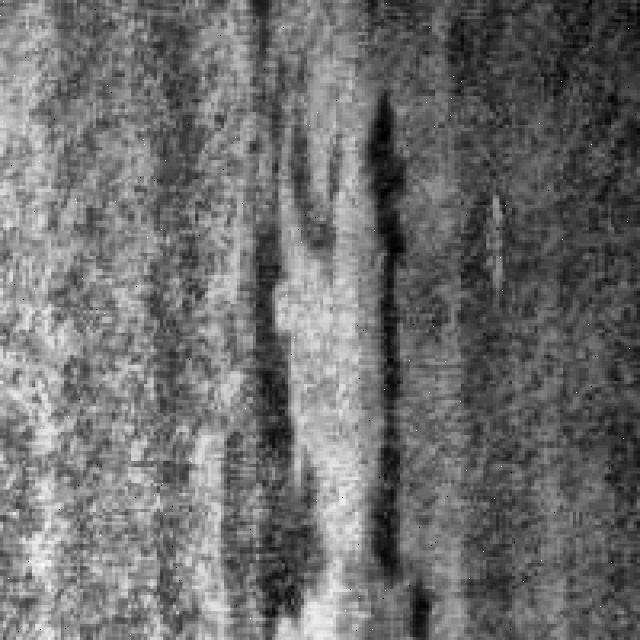Patches: (234, 77, 356, 630), (355, 77, 435, 630)
